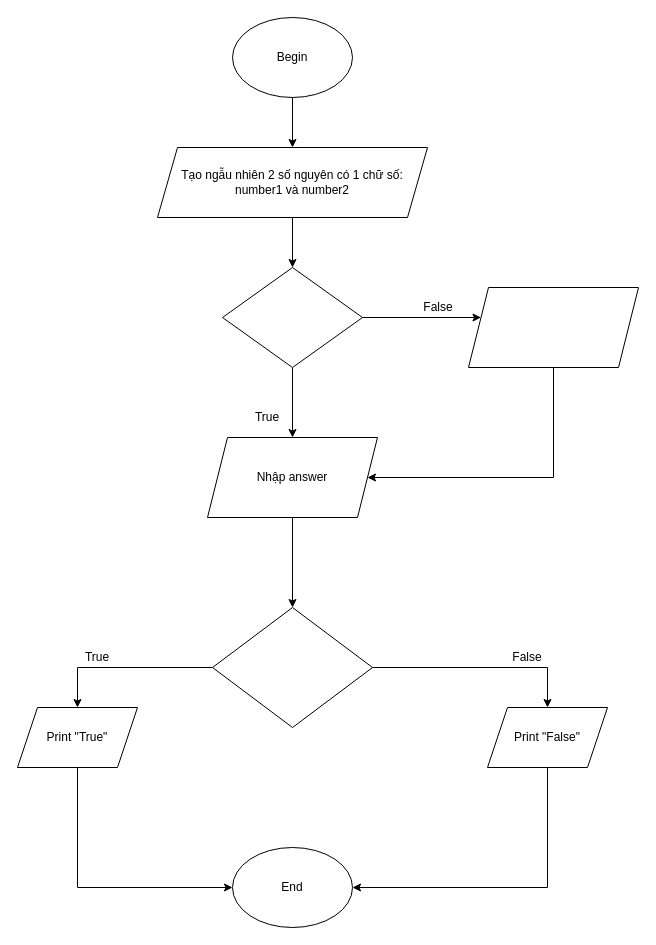
Some shapes in this 656 by 945 pixel diagram are drawn without their labels. The shapes that lost their labels are listed below. From the top down, each one's centre as x and y in pixels, then its label:
At pixel 292 317: "number1 > number2".
At pixel 553 327: "temp = number1 number1 = number2 number2 = temp".
At pixel 292 667: "answer == number1 - number 2".
